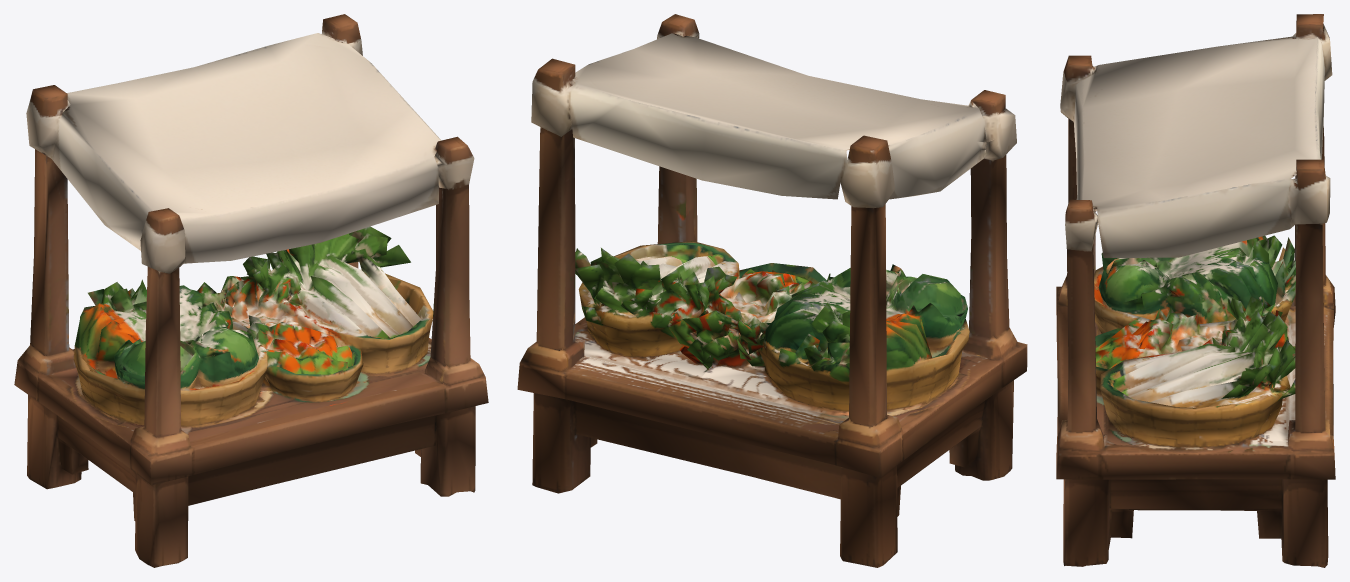
Rendered from stall_a.glb.
The picture shows the model from 3 angles, left to right: view 1: azimuth 30°, elevation 25°; view 2: azimuth 150°, elevation 25°; view 3: azimuth 270°, elevation 25°; orthographic projection. The views are drawn at different scales.
Parts seen in each view (by area): view 1: low; view 2: low; view 3: low.
Part boxes in pixels (x1,y1,x2,y2): low: [14, 14, 488, 567]; low: [517, 14, 1027, 567]; low: [1056, 14, 1335, 567].
Size of the model in its own units: 0.9177 by 0.9981 by 0.6376.
Materials: 1 (1 with a texture image).
